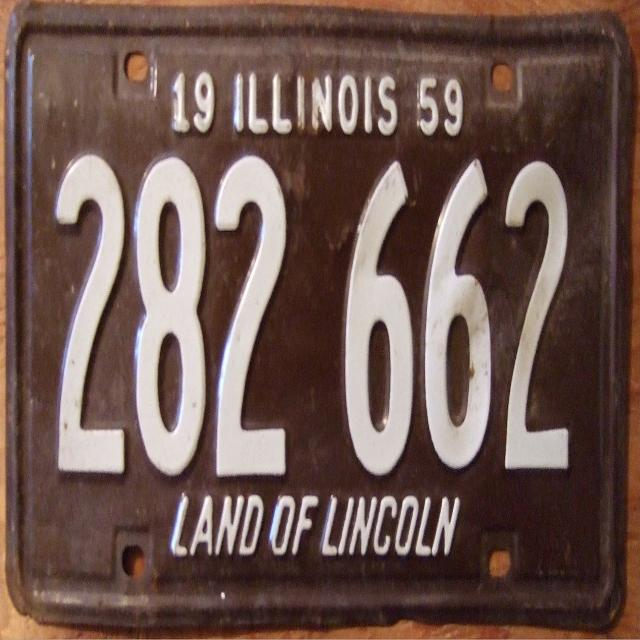placa: (21, 134, 616, 500)
